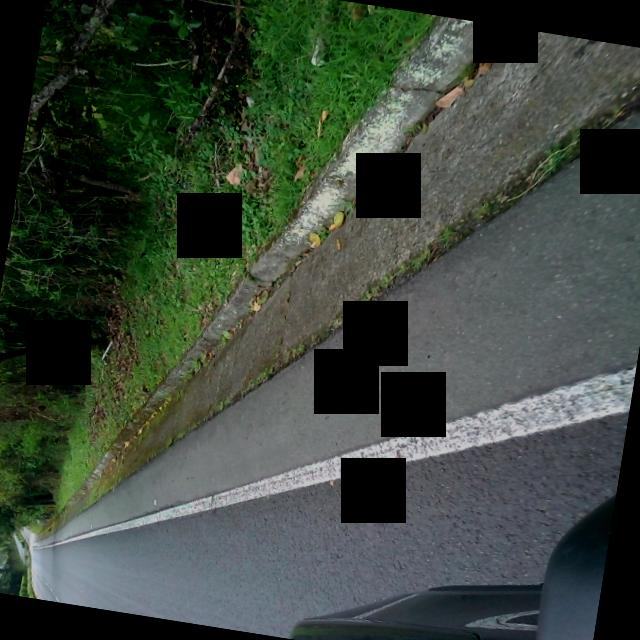DITCH: (22, 0, 640, 638), (12, 0, 640, 618), (42, 0, 640, 640)
